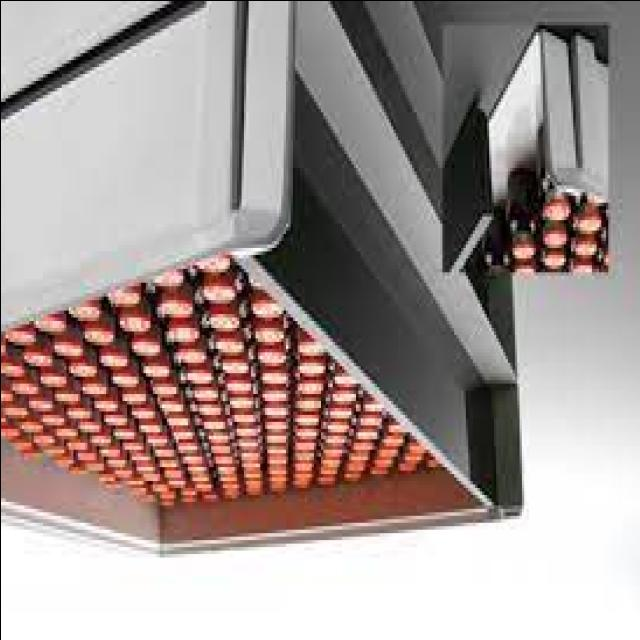vial: (167, 315, 199, 340), (248, 294, 278, 316), (197, 252, 227, 273), (176, 344, 207, 364), (162, 294, 192, 314), (132, 330, 160, 350), (540, 230, 566, 251), (198, 282, 232, 298), (52, 339, 82, 357), (112, 285, 142, 303), (88, 394, 115, 412), (121, 313, 148, 331), (509, 242, 539, 258), (206, 428, 230, 448), (52, 387, 78, 405), (162, 396, 186, 415), (207, 312, 234, 328), (330, 365, 354, 383), (540, 206, 566, 222), (72, 303, 98, 319), (70, 357, 94, 374), (196, 397, 218, 415), (300, 338, 322, 356), (27, 350, 51, 366), (234, 406, 258, 422), (257, 324, 281, 340), (79, 378, 106, 392), (216, 456, 237, 474), (112, 370, 138, 384), (212, 340, 242, 352), (302, 357, 326, 372), (300, 376, 323, 391), (221, 359, 247, 372), (84, 328, 112, 340), (102, 350, 126, 364), (150, 358, 168, 376), (40, 316, 64, 329), (188, 370, 214, 382), (198, 418, 224, 430), (227, 397, 253, 409), (221, 376, 252, 386), (124, 388, 146, 402), (10, 328, 30, 343), (236, 422, 256, 437), (330, 387, 350, 402), (148, 432, 169, 446), (264, 403, 285, 417), (260, 346, 281, 360), (11, 382, 35, 394), (261, 386, 285, 398), (263, 369, 285, 382), (240, 441, 259, 456), (570, 221, 598, 231), (299, 394, 319, 408), (298, 409, 318, 423), (293, 464, 313, 478), (157, 271, 180, 283), (215, 442, 232, 458), (140, 459, 158, 474), (298, 426, 316, 441), (298, 439, 316, 454), (293, 452, 312, 466), (42, 372, 64, 384), (104, 414, 126, 426), (112, 426, 134, 438), (570, 241, 596, 251), (170, 412, 187, 427), (1, 362, 22, 374), (41, 445, 62, 457), (100, 466, 118, 480), (76, 416, 95, 429), (40, 411, 62, 422), (568, 264, 592, 274), (56, 422, 76, 434), (108, 459, 128, 471), (97, 444, 117, 456), (219, 476, 239, 488), (176, 426, 193, 440), (385, 418, 402, 432), (509, 264, 532, 274), (186, 452, 202, 466), (77, 446, 95, 458), (88, 458, 106, 470), (158, 384, 176, 396), (195, 480, 213, 492), (242, 455, 260, 467), (325, 436, 343, 448), (328, 420, 346, 432), (360, 414, 378, 426), (163, 454, 178, 468), (319, 473, 334, 487), (126, 440, 142, 453), (293, 475, 310, 487), (66, 408, 86, 418), (242, 469, 262, 479), (266, 419, 286, 429), (346, 449, 366, 459), (134, 451, 152, 462), (28, 433, 52, 441), (152, 480, 168, 492), (144, 420, 160, 432), (321, 463, 337, 475), (422, 458, 438, 470), (382, 436, 401, 446), (193, 386, 216, 394), (409, 438, 423, 451), (10, 440, 28, 450), (266, 460, 284, 470), (266, 433, 284, 443), (324, 456, 342, 466), (343, 470, 361, 480), (19, 452, 36, 462), (7, 401, 21, 413), (353, 430, 374, 438), (366, 396, 380, 408), (18, 421, 36, 430), (326, 447, 344, 456), (0, 425, 16, 435), (130, 482, 146, 492), (90, 432, 106, 442), (137, 406, 153, 416), (171, 479, 187, 489), (332, 408, 348, 418), (403, 453, 419, 463), (377, 447, 397, 455), (542, 256, 564, 263), (27, 399, 46, 407), (267, 442, 286, 450), (348, 460, 363, 470), (243, 480, 261, 488), (266, 450, 284, 458), (398, 464, 416, 472), (197, 468, 208, 481), (146, 473, 160, 483), (142, 494, 156, 504), (123, 472, 137, 482), (366, 469, 386, 476), (160, 446, 173, 456), (596, 256, 612, 264), (183, 444, 199, 452), (268, 484, 284, 492), (268, 472, 284, 480), (587, 201, 601, 210), (68, 442, 86, 449), (70, 462, 84, 471), (373, 459, 391, 466), (352, 441, 370, 448), (223, 492, 240, 499), (245, 490, 262, 496), (0, 388, 10, 398), (163, 494, 175, 502), (170, 468, 182, 476), (0, 341, 7, 354), (184, 491, 194, 499), (204, 491, 216, 496), (0, 414, 7, 422), (58, 457, 68, 462)
